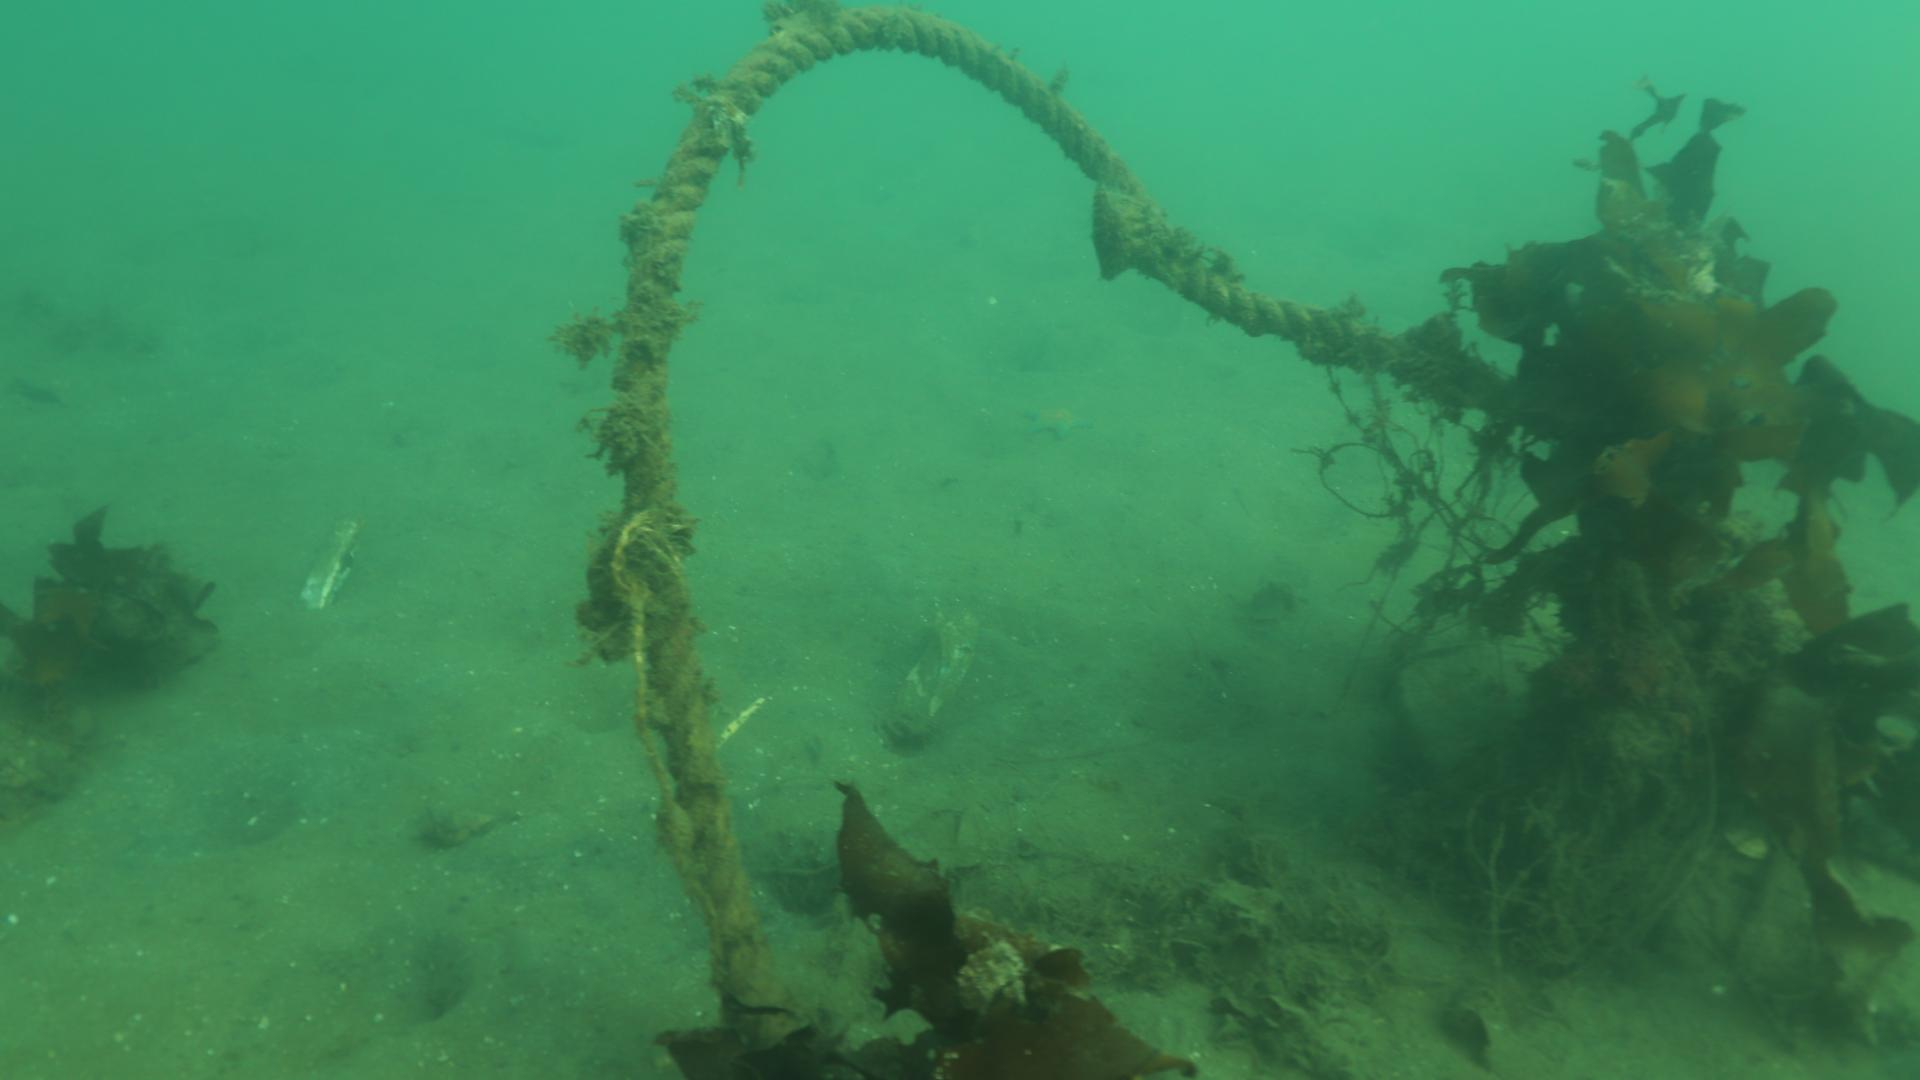rope: (612, 4, 1389, 1043)
